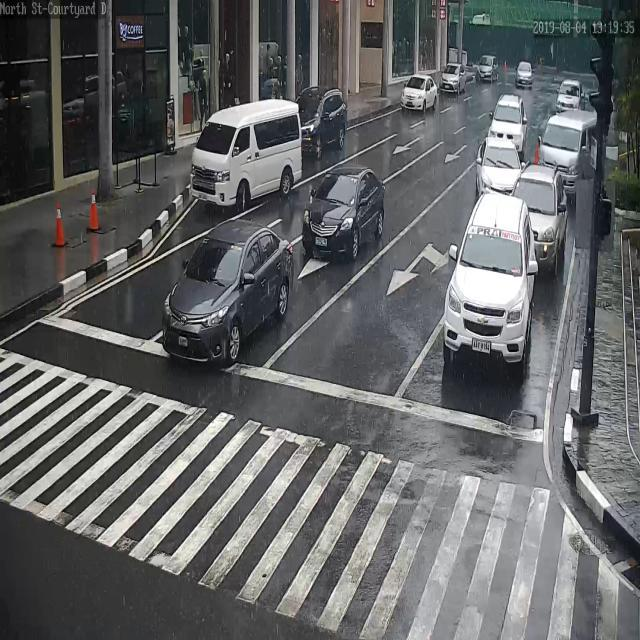car: (160, 224, 294, 365), (443, 192, 538, 376), (303, 166, 387, 266), (511, 162, 567, 278), (296, 87, 347, 157), (476, 135, 523, 198), (487, 92, 526, 157), (401, 75, 438, 112), (555, 77, 585, 113), (441, 62, 467, 94), (476, 53, 499, 81), (516, 60, 534, 88)
van: (191, 99, 303, 208), (538, 110, 600, 188)
